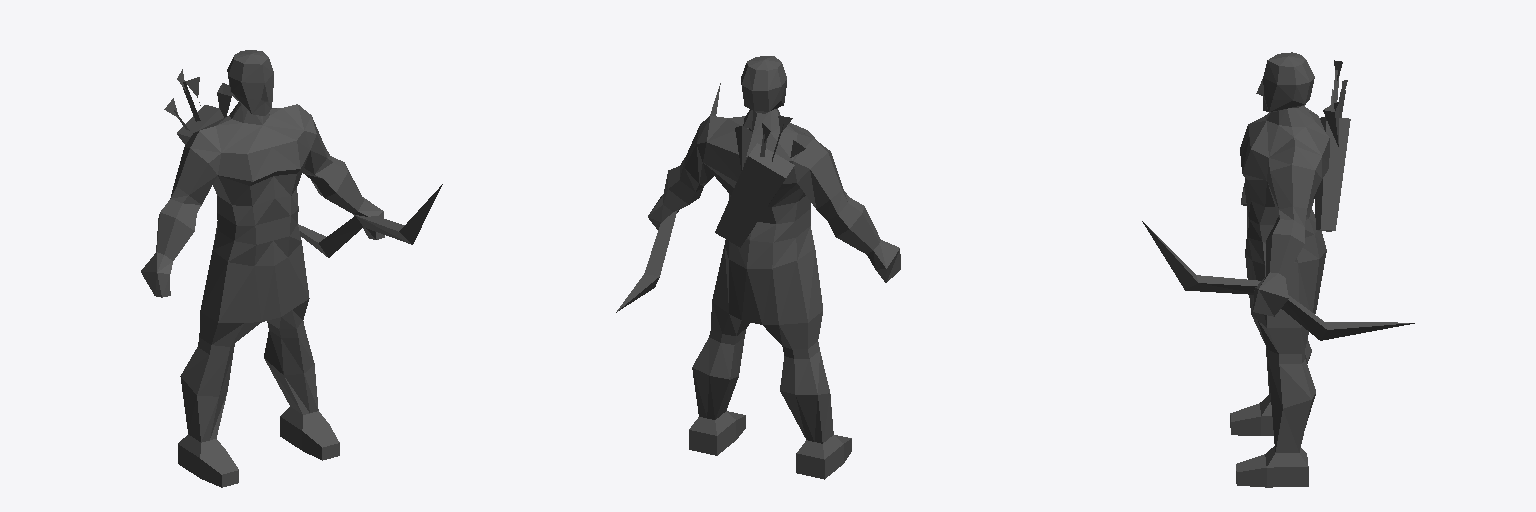
File: bowman.obj
3 views of the same model, side by side, from view 1: azimuth 30°, elevation 25°; view 2: azimuth 150°, elevation 25°; view 3: azimuth 270°, elevation 25° (orthographic).
Parts seen in each view (by area): view 1: Mesh.003_Mesh_archer, Mesh.005_Mesh.002_bow, Mesh.004_Mesh.001_arrows; view 2: Mesh.003_Mesh_archer, Mesh.004_Mesh.001_arrows, Mesh.005_Mesh.002_bow; view 3: Mesh.003_Mesh_archer, Mesh.005_Mesh.002_bow, Mesh.004_Mesh.001_arrows.
Part boxes in pixels (x1,y1,x2,y2): Mesh.003_Mesh_archer: (141, 50, 384, 487); Mesh.005_Mesh.002_bow: (298, 184, 442, 257); Mesh.004_Mesh.001_arrows: (164, 69, 223, 144); Mesh.003_Mesh_archer: (648, 56, 900, 479); Mesh.004_Mesh.001_arrows: (715, 116, 805, 247); Mesh.005_Mesh.002_bow: (616, 83, 720, 312); Mesh.003_Mesh_archer: (1230, 52, 1338, 487); Mesh.005_Mesh.002_bow: (1142, 221, 1414, 340); Mesh.004_Mesh.001_arrows: (1315, 60, 1350, 231).
Bounding box in the file's own units: 2.43 × 3.96 × 2.52.